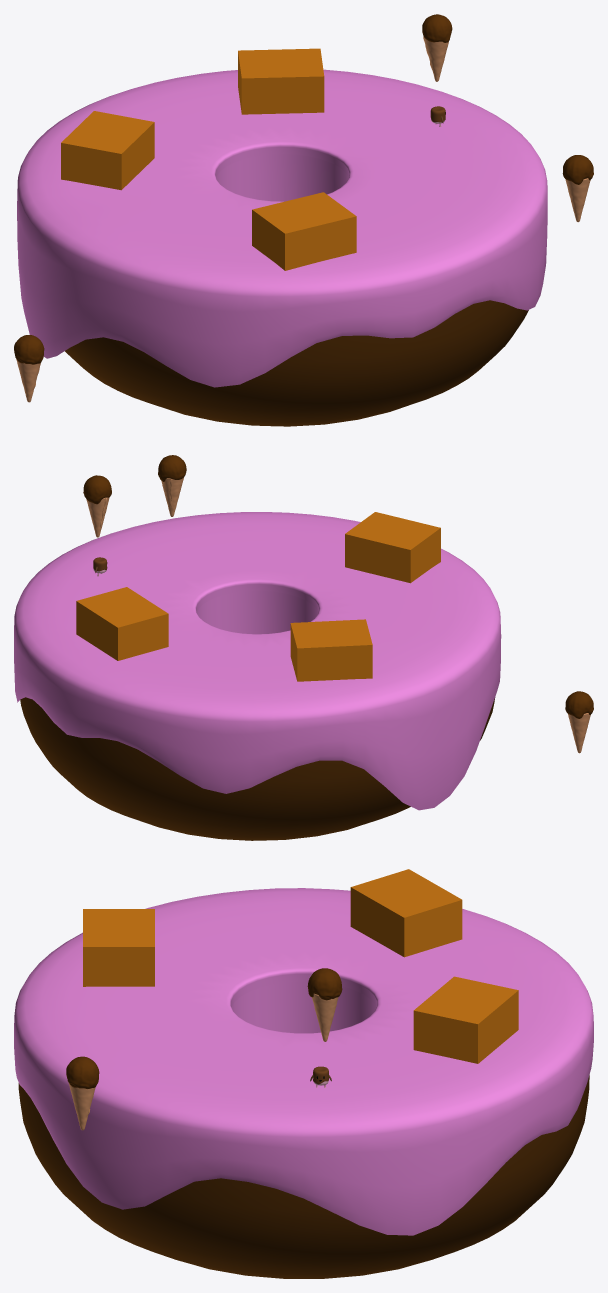
Rendered from map.fbx.
3 views of the same model, one above another, from view 1: azimuth 30°, elevation 25°; view 2: azimuth 150°, elevation 25°; view 3: azimuth 270°, elevation 25° (orthographic). The views are drawn at different scales.
Visible parts, largest first — view 1: TOP, Cube.002, Cube.001, Cube, Icosphere.002, Icosphere.001, Icosphere.003; view 2: TOP, Cube.002, Cube, Cube.001, Icosphere.003, Icosphere.002, Icosphere.001; view 3: TOP, Cube.001, Cube, Cube.002, Icosphere.002, Icosphere.003.
Part boxes in pixels (x1,y1,x2,y2): TOP: (17,69,547,426); Cube.002: (252,192,356,270); Cube.001: (61,111,154,190); Cube: (238,48,324,114); Icosphere.002: (422,14,452,81); Icosphere.001: (14,335,44,402); Icosphere.003: (562,155,593,222); TOP: (14,512,501,840); Cube.002: (345,512,440,583); Cube: (76,587,168,660); Cube.001: (290,619,372,681); Icosphere.003: (158,455,186,516); Icosphere.002: (83,475,111,537); Icosphere.001: (565,691,593,753); TOP: (14,888,593,1278); Cube.001: (350,869,462,957); Cube: (413,976,518,1063); Cube.002: (83,909,154,986); Icosphere.002: (307,968,342,1041); Icosphere.003: (66,1056,99,1130).
Size of the model in its own units: 10006 by 5474 by 8437.
